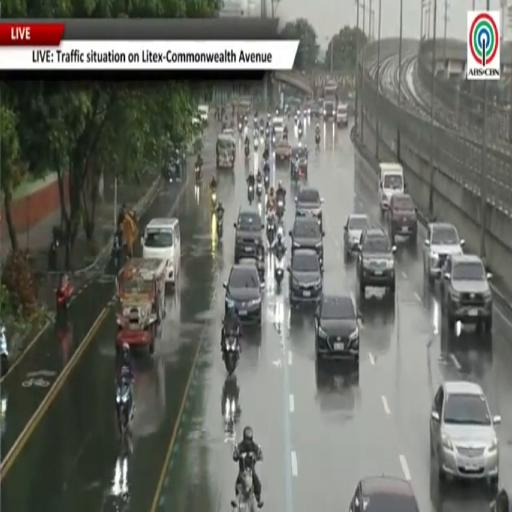car: (430, 381, 500, 486), (442, 254, 492, 332), (315, 294, 359, 363), (357, 227, 396, 298), (423, 222, 464, 284), (349, 476, 419, 511), (224, 264, 261, 325), (288, 249, 322, 306), (289, 217, 324, 268), (234, 207, 264, 263), (388, 194, 417, 243), (295, 186, 323, 230), (344, 214, 369, 260), (238, 258, 264, 286), (291, 146, 308, 179), (490, 488, 511, 511), (275, 139, 291, 163), (336, 103, 348, 126), (273, 117, 284, 138), (198, 105, 209, 125), (222, 128, 236, 141), (311, 102, 321, 118)
jeepney: (116, 259, 166, 354), (216, 134, 235, 169)
motorcycle: (231, 454, 258, 511), (221, 373, 240, 432), (116, 379, 134, 438), (56, 281, 73, 321), (223, 333, 239, 375), (111, 230, 122, 273), (0, 326, 9, 376), (48, 240, 59, 271), (274, 255, 284, 285), (257, 252, 265, 283), (267, 216, 275, 245), (276, 197, 285, 221), (216, 212, 223, 238), (210, 190, 217, 212), (256, 181, 263, 202), (195, 166, 202, 185), (248, 185, 254, 204), (350, 126, 356, 142), (264, 173, 269, 191), (316, 134, 320, 151), (245, 144, 250, 157), (254, 138, 258, 152), (298, 127, 303, 138), (283, 130, 288, 141), (260, 126, 264, 137), (239, 123, 243, 134), (265, 128, 269, 139), (272, 135, 275, 146)
